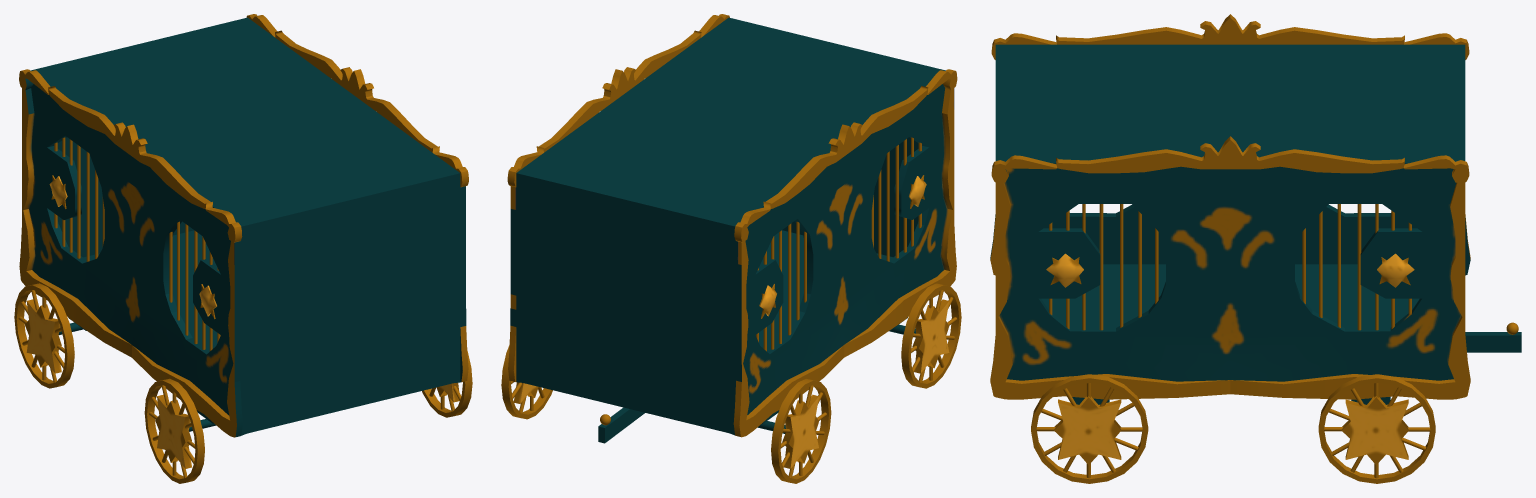
File: Cage.fbx
The picture shows the model from 3 angles, left to right: view 1: azimuth 30°, elevation 25°; view 2: azimuth 150°, elevation 25°; view 3: azimuth 270°, elevation 25°; orthographic projection. The views are drawn at different scales.
Parts seen in each view (by area): view 1: pCylinder18; view 2: pCylinder18; view 3: pCylinder18.
Boxes of the visible parts, <box> form: pCylinder18: <box>14,14,472,483</box>; pCylinder18: <box>501,14,961,483</box>; pCylinder18: <box>990,14,1521,483</box>.
Size of the model in its own units: 4.69 by 4.89 by 7.06.
